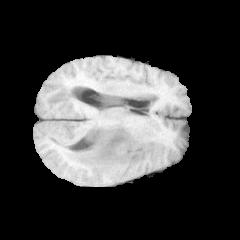glioma: (63, 123, 146, 182)
